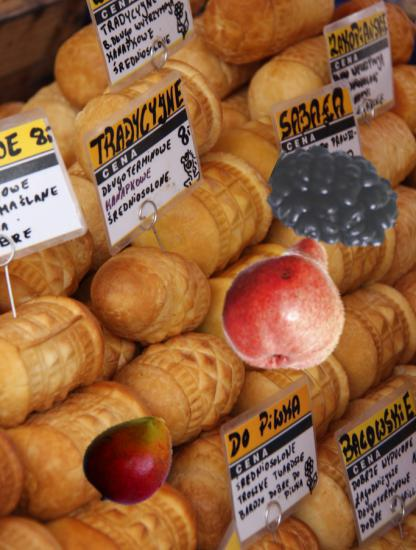Mango: (81, 409, 183, 511)
Mulberry: (267, 131, 403, 267)
Pear: (215, 231, 358, 374)
